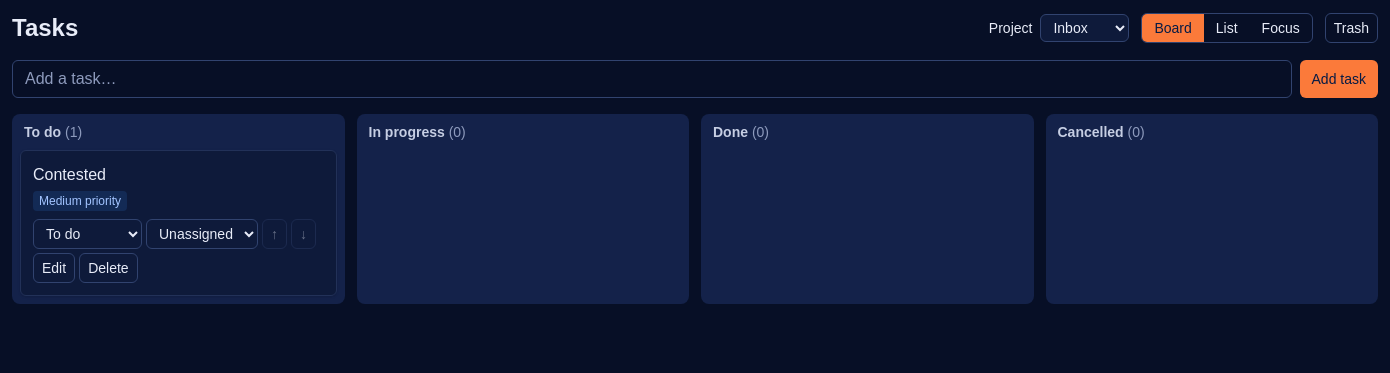
when something goes wrong › explains a conflict and reloads the board with the latest data
The width and height of the screenshot is (1390, 373).
expect the heading "Contested" is shown: met, box x1=33 y1=166 x2=106 y2=183
Select "Done" in the dropdown named "Status of Contested": (88, 234) x1=33 y1=219 x2=142 y2=249
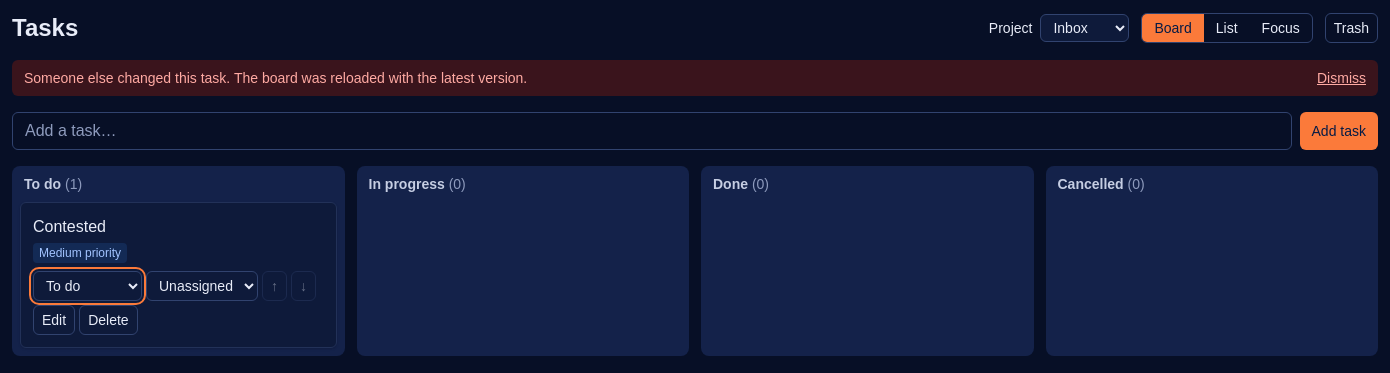
expect the text "Someone else changed this task" is shown: met, box x1=24 y1=70 x2=527 y2=86
